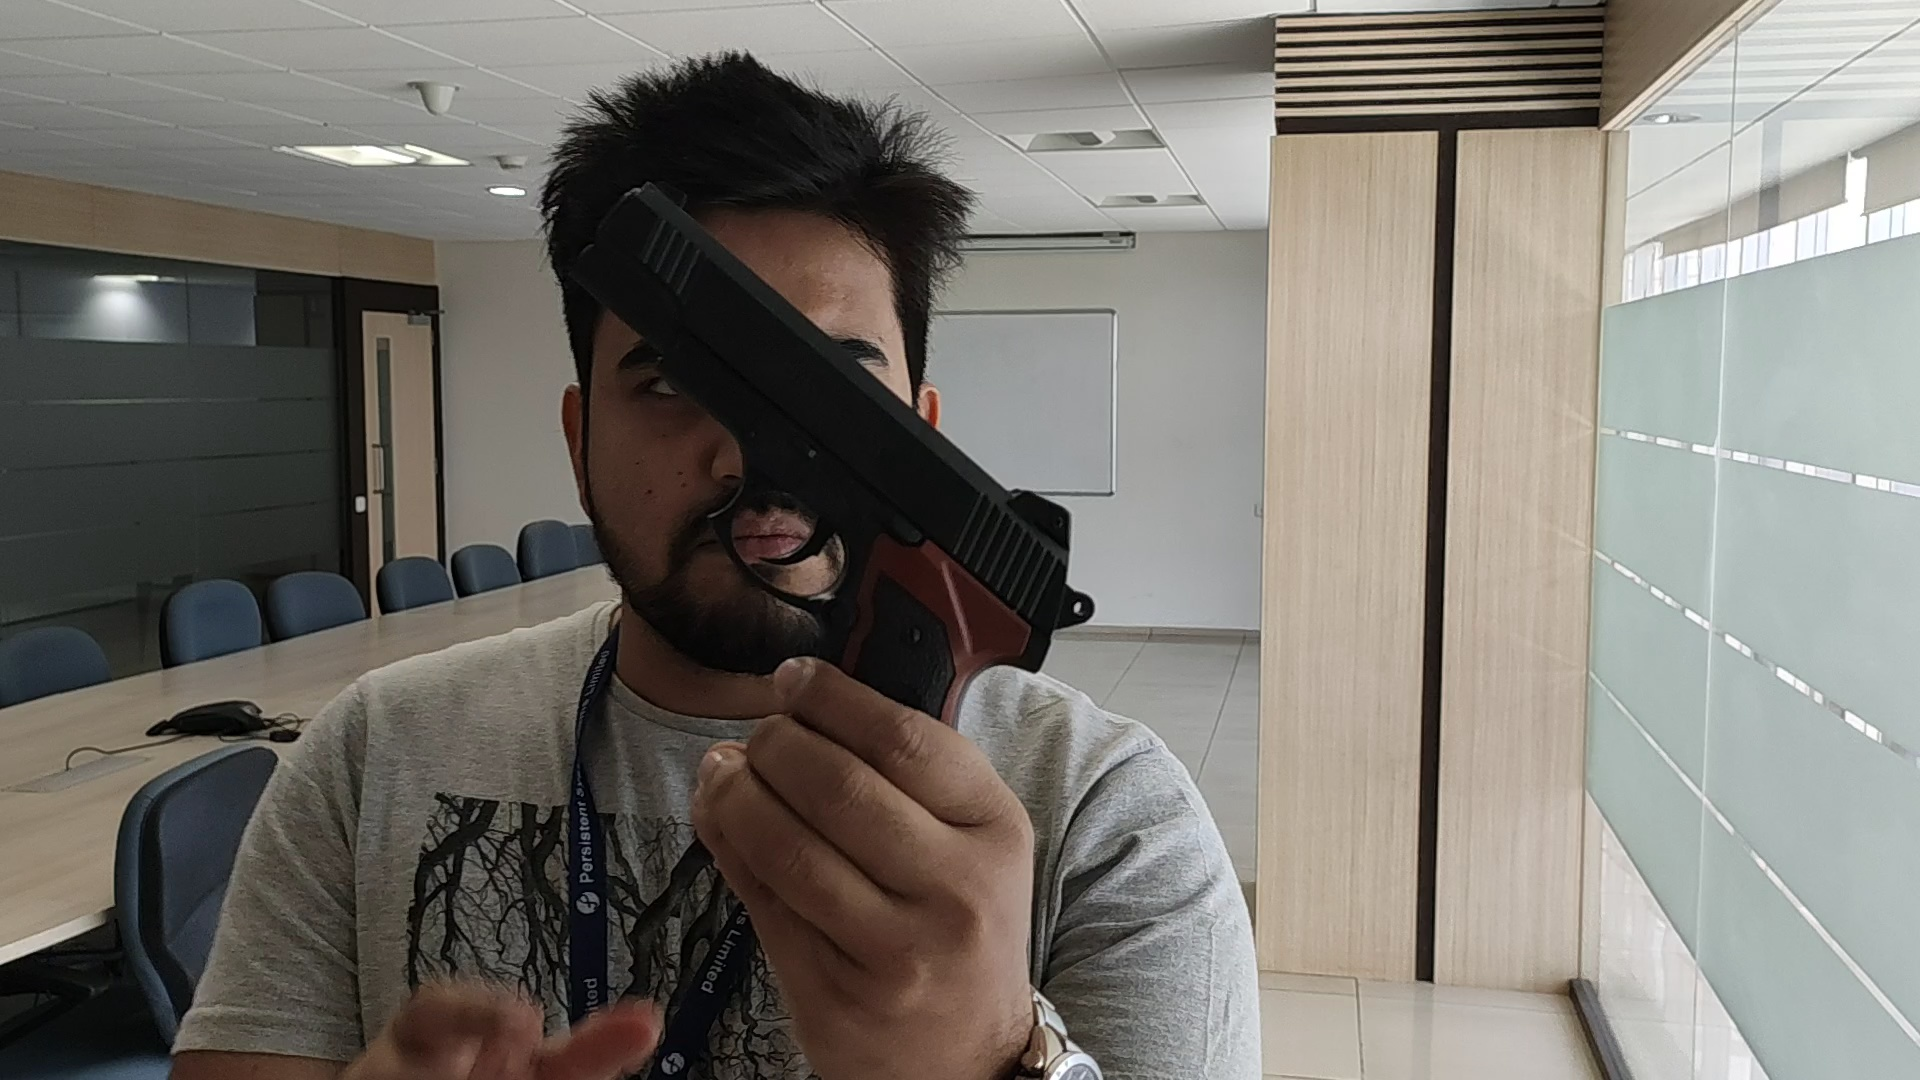gun: (679, 380, 1092, 669)
